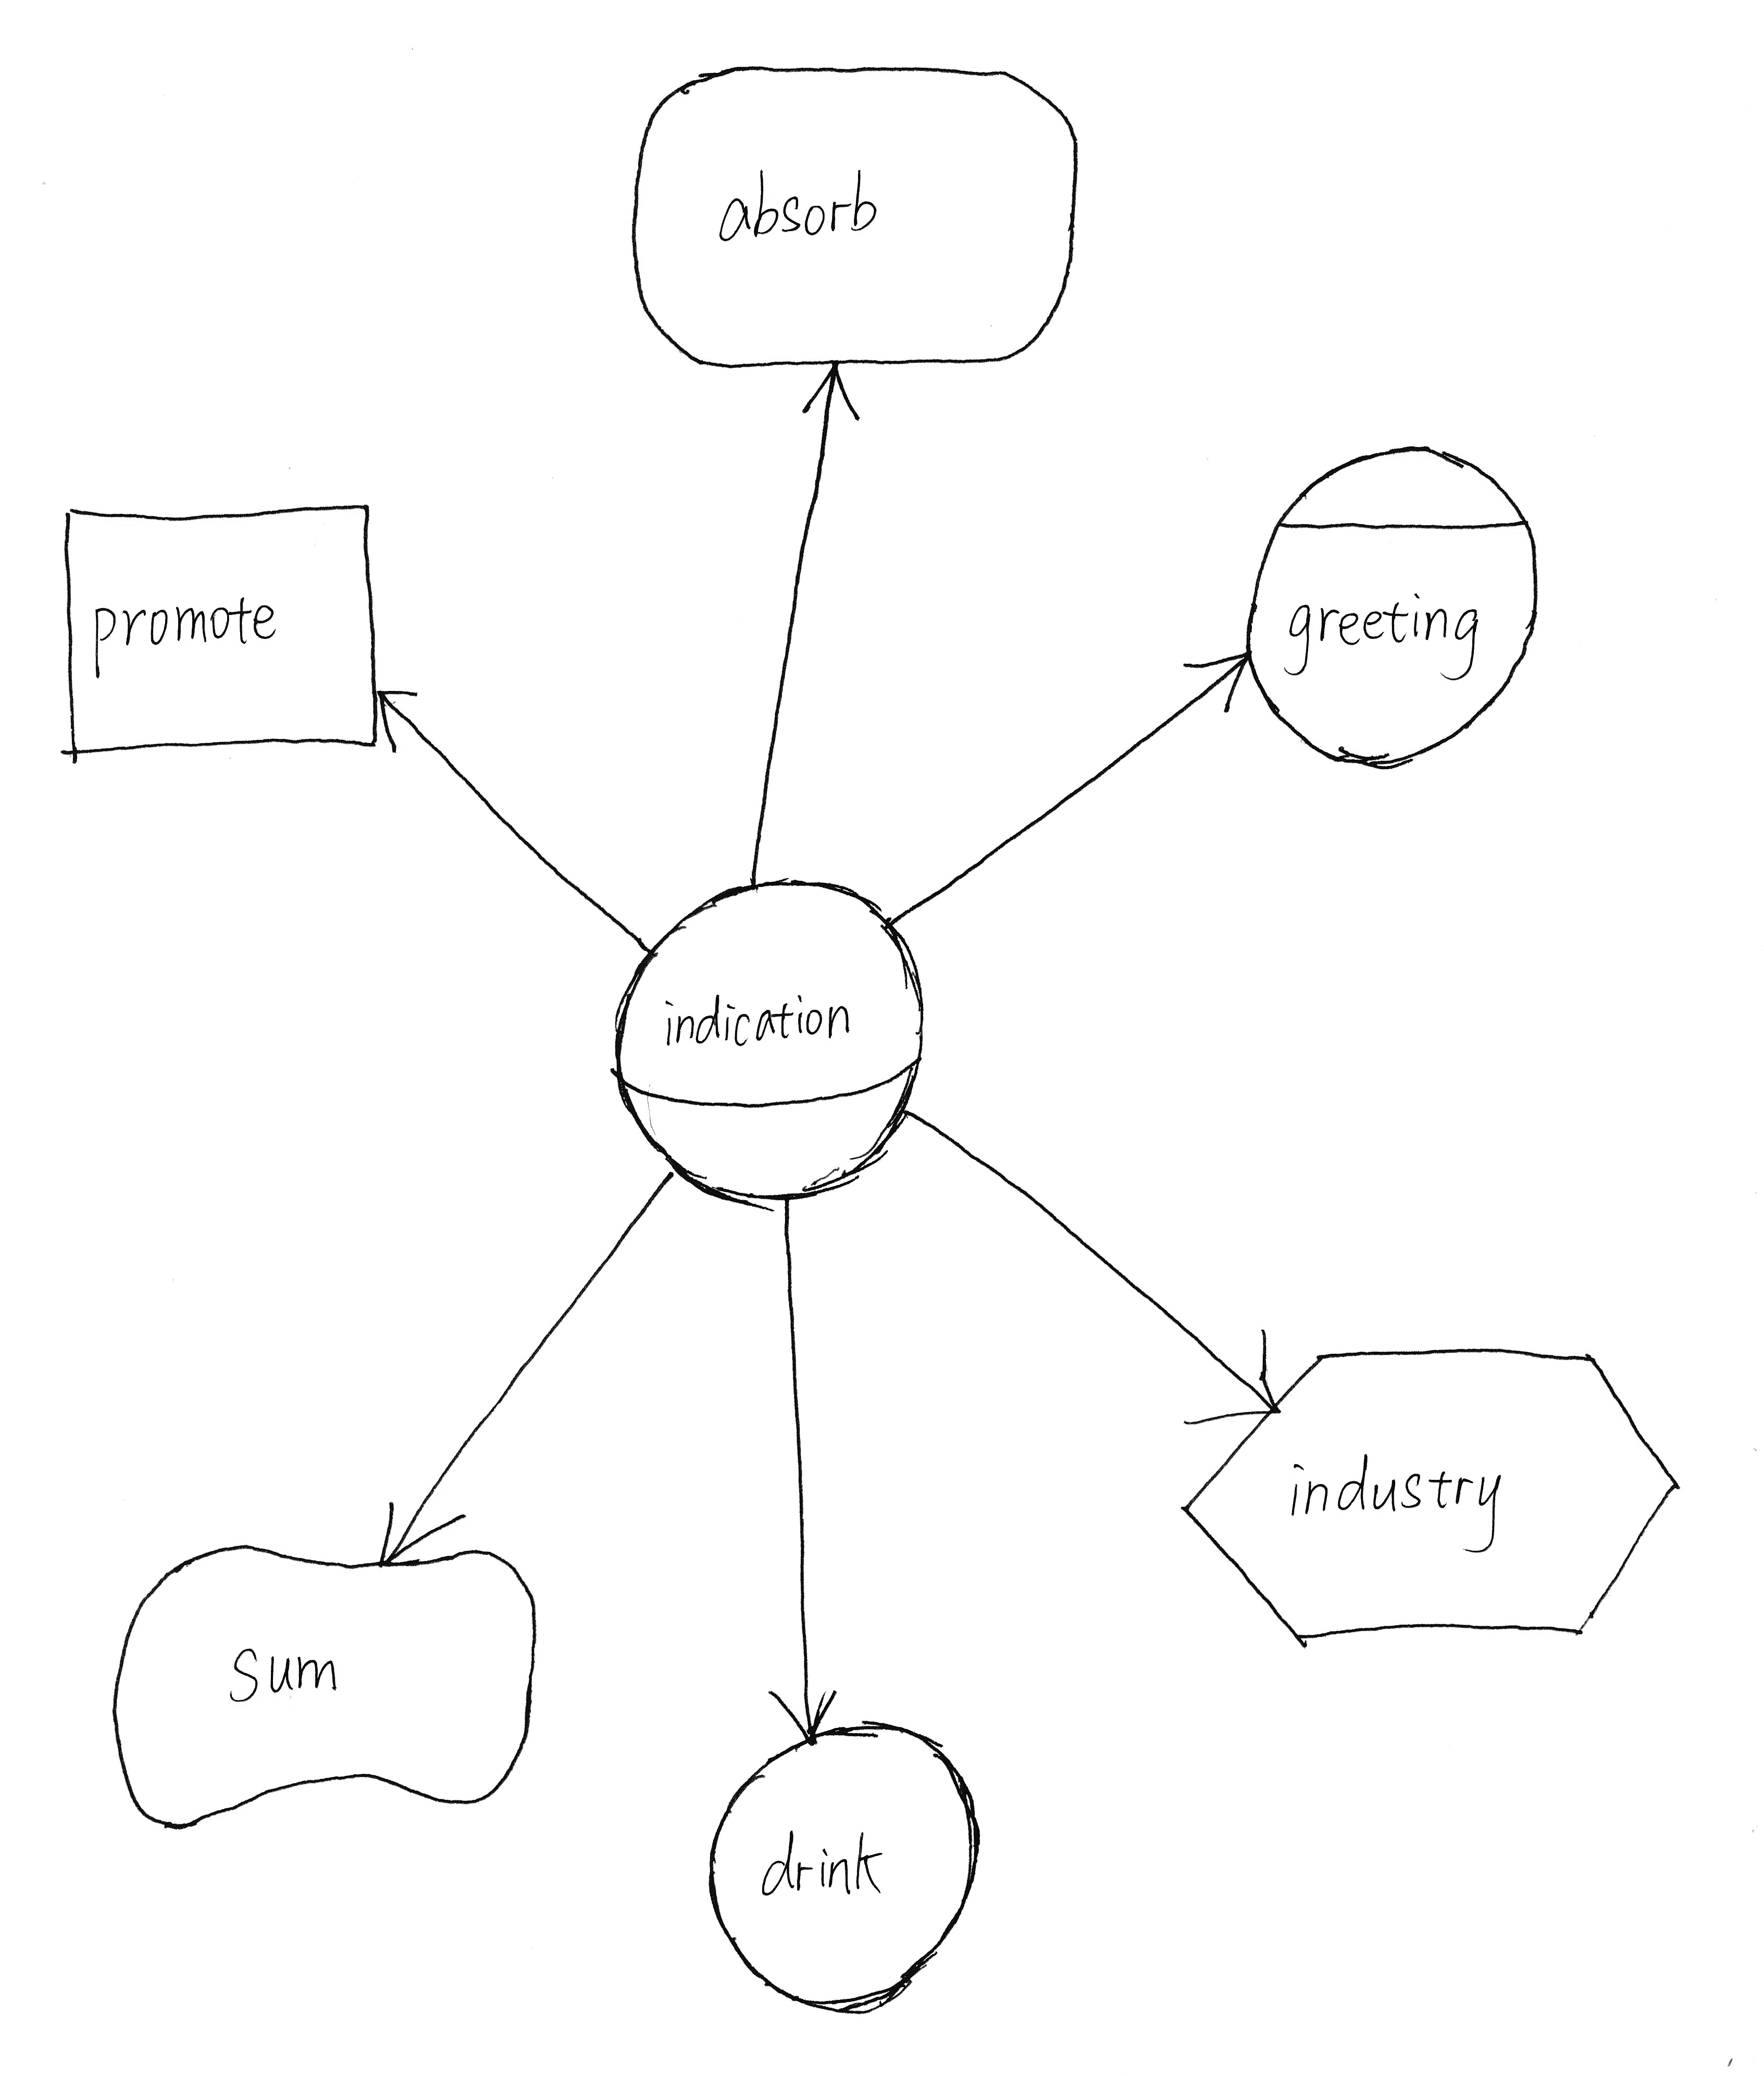actor: (688, 1693, 989, 2030)
agent: (1230, 432, 1557, 777)
arrow: (1164, 1302, 1302, 1455), (348, 1477, 493, 1588), (733, 1656, 861, 1768), (1162, 628, 1277, 733), (786, 340, 885, 439), (355, 660, 441, 767)
goal: (602, 44, 1111, 399)
quality: (93, 1516, 565, 1845)
resource: (26, 476, 415, 784)
role: (593, 865, 961, 1225)
task: (1157, 1316, 1708, 1665)
